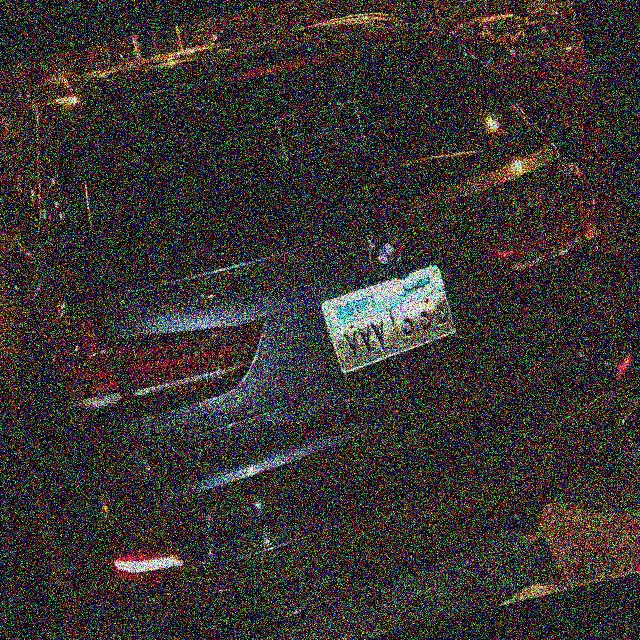License Plate: (314, 260, 469, 381)
